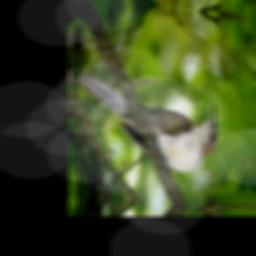Cuckoo: (73, 70, 221, 180)
